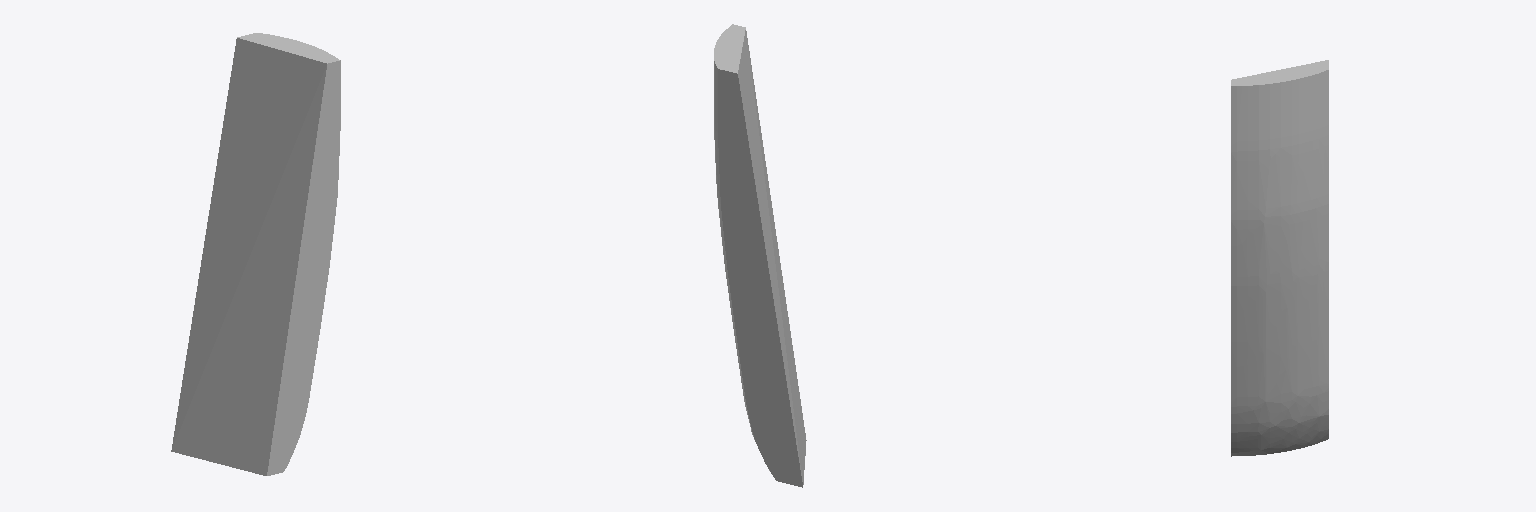
The model's file is laundry_basket_collision_21.obj.
The picture shows the model from 3 angles: view 1: azimuth 30°, elevation 25°; view 2: azimuth 150°, elevation 25°; view 3: azimuth 270°, elevation 25°; orthographic projection.
Size of the model in its own units: 0.3715 by 1.18 by 0.2648.